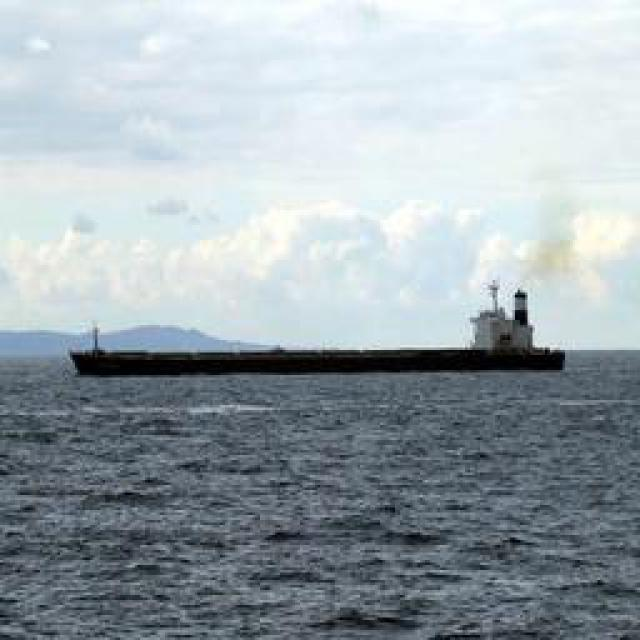Ship: (65, 290, 565, 383)
